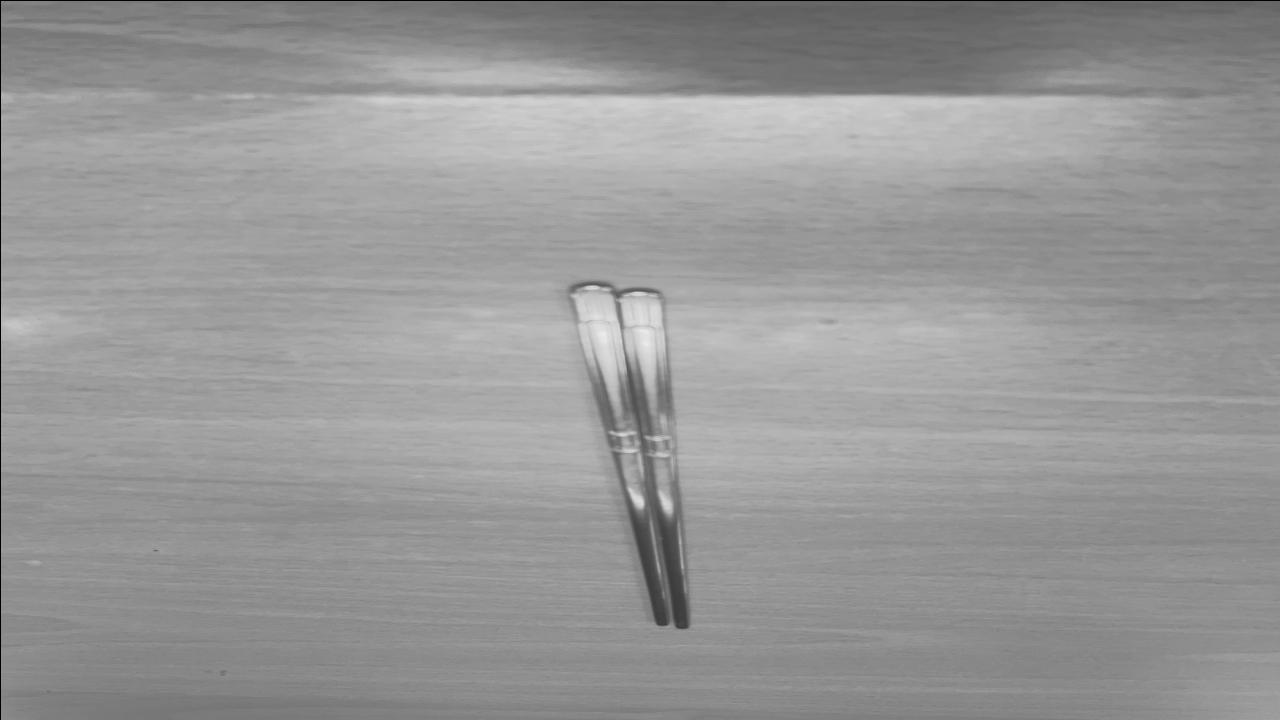chopstick: (573, 288, 685, 626)
